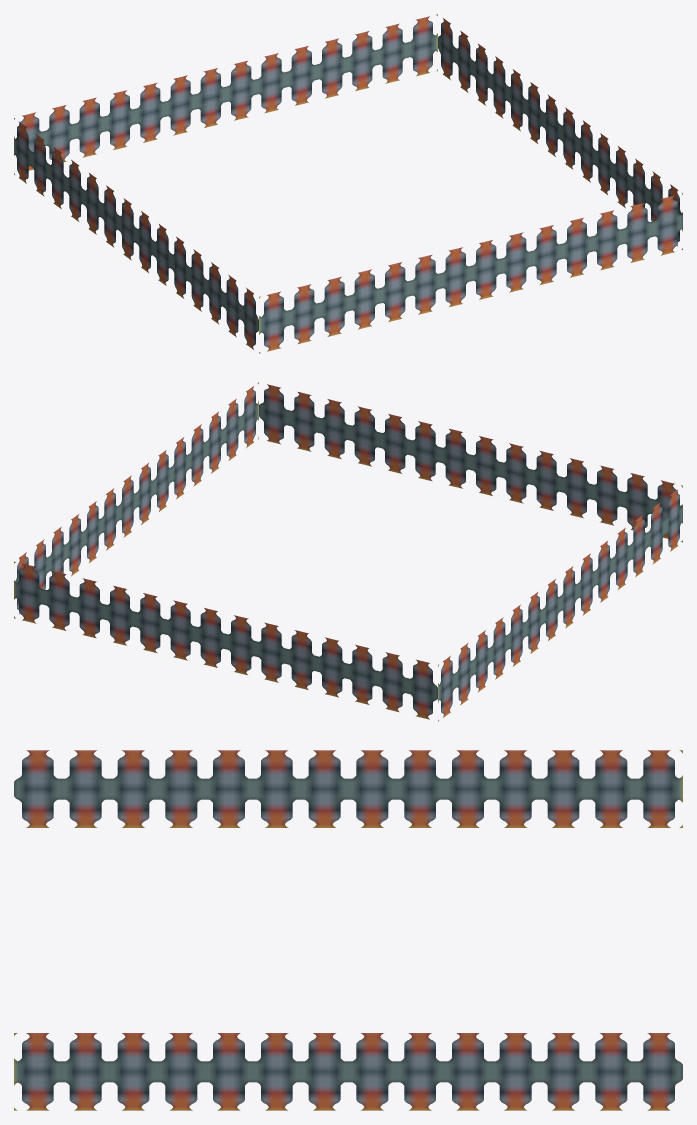
The model's file is belt.obj.
3 renders of one model, top to bottom at view 1: azimuth 30°, elevation 25°; view 2: azimuth 150°, elevation 25°; view 3: azimuth 270°, elevation 25°, orthographic. The views are drawn at different scales.
Parts seen in each view (by area): view 1: cube; view 2: cube; view 3: cube.
Boxes of the visible parts, x1=… form: cube: x1=14, y1=14, x2=682, y2=353; cube: x1=14, y1=382, x2=682, y2=721; cube: x1=14, y1=750, x2=682, y2=1110.
Bounding box in the file's own units: 5.38 × 0.6875 × 5.38.
1 material, 1 textured.
